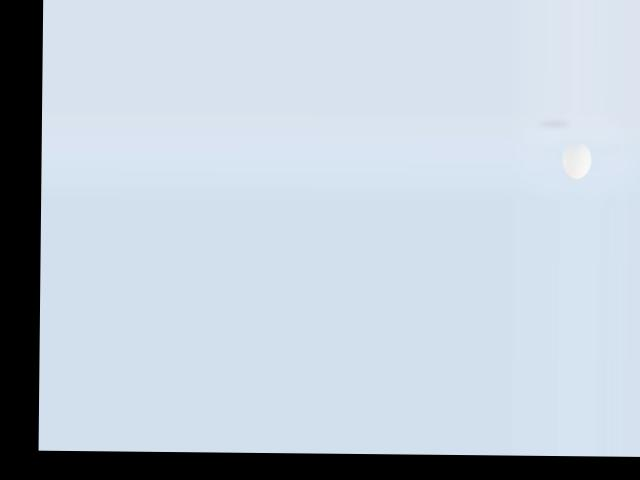egg: (562, 142, 592, 178)
